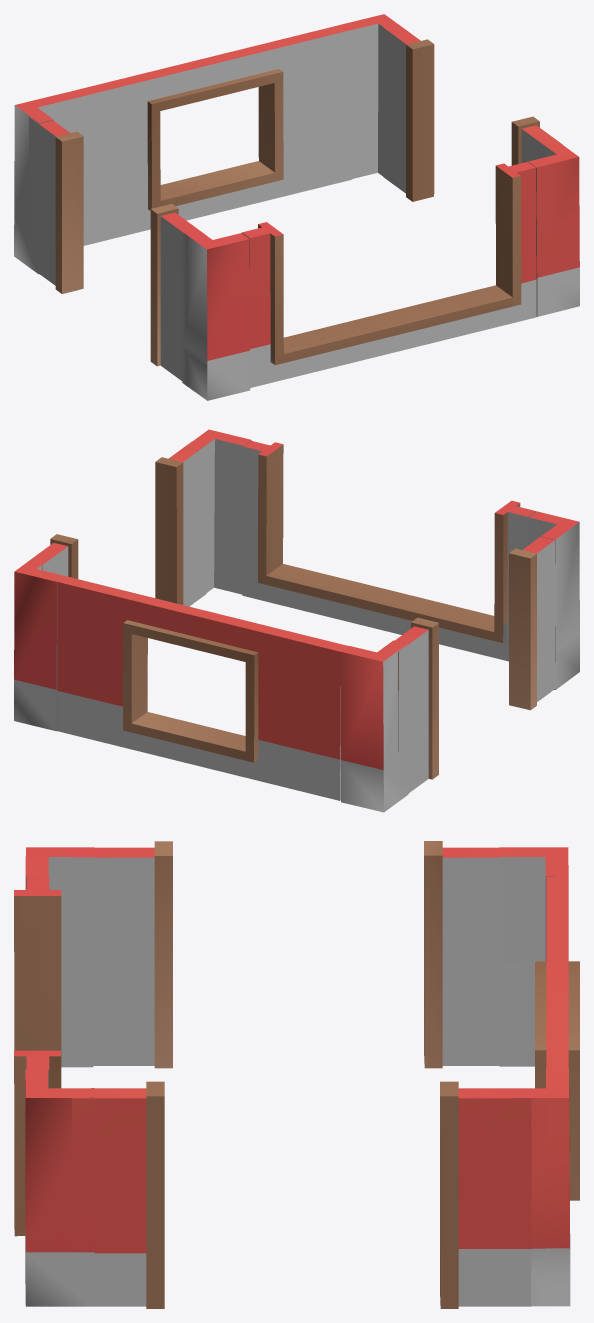
Rendered from ENTRADA.fbx.
3 renders of one model, top to bottom at view 1: azimuth 30°, elevation 25°; view 2: azimuth 150°, elevation 25°; view 3: azimuth 270°, elevation 25°, orthographic. The views are drawn at different scales.
Visible parts, largest first — view 1: paret_ventana6, paret_con_ventana_grande17, paret_esquina_66, paret_doblepuerta2, paret_con_borde12, paret_esquina25, paret_con_borde9, paret_esquina27, paret_esquina_60; view 2: paret_ventana6, paret_con_ventana_grande17, paret_esquina_60, paret_doblepuerta2, paret_con_borde9, paret_esquina27, paret_con_borde12, paret_esquina25, paret_esquina_66; view 3: paret_doblepuerta2, paret_con_borde9, paret_con_borde12, paret_esquina25, paret_con_ventana_grande17, paret_esquina27, paret_ventana6, paret_esquina_60, paret_esquina_66.
Boxes of the visible parts, box(x1,y1,x2,y2) form: paret_ventana6: box(58, 24, 352, 245); paret_con_ventana_grande17: box(241, 162, 536, 387); paret_esquina_66: box(182, 228, 250, 400); paret_doblepuerta2: box(383, 27, 562, 201); paret_con_borde12: box(29, 116, 83, 293); paret_esquina25: box(528, 139, 579, 316); paret_con_borde9: box(150, 204, 202, 387); paret_esquina27: box(344, 14, 408, 178); paret_esquina_60: box(14, 94, 65, 274); paret_ventana6: box(55, 575, 347, 800); paret_con_ventana_grande17: box(242, 440, 536, 661); paret_esquina_60: box(340, 640, 408, 812); paret_doblepuerta2: box(39, 441, 206, 606); paret_con_borde9: box(509, 533, 555, 710); paret_esquina27: box(14, 553, 62, 731); paret_con_borde12: box(395, 617, 438, 792); paret_esquina25: box(184, 429, 251, 594); paret_esquina_66: box(528, 511, 579, 689); paret_doblepuerta2: box(72, 1081, 531, 1308); paret_con_borde9: box(70, 841, 172, 1068); paret_con_borde12: box(424, 841, 526, 1068); paret_esquina25: box(25, 1069, 94, 1306); paret_con_ventana_grande17: box(14, 876, 61, 1236); paret_esquina27: box(500, 1069, 570, 1306); paret_ventana6: box(535, 876, 579, 1200); paret_esquina_60: box(499, 847, 568, 1066); paret_esquina_66: box(25, 847, 94, 1067).
Bounding box in the file's own units: 878 × 345 × 814.
